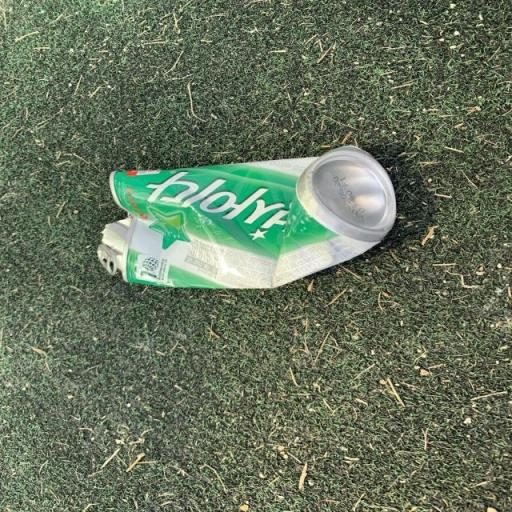metal: (50, 91, 428, 351)
